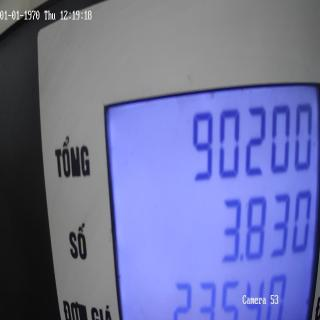screen: (97, 68, 319, 320)
